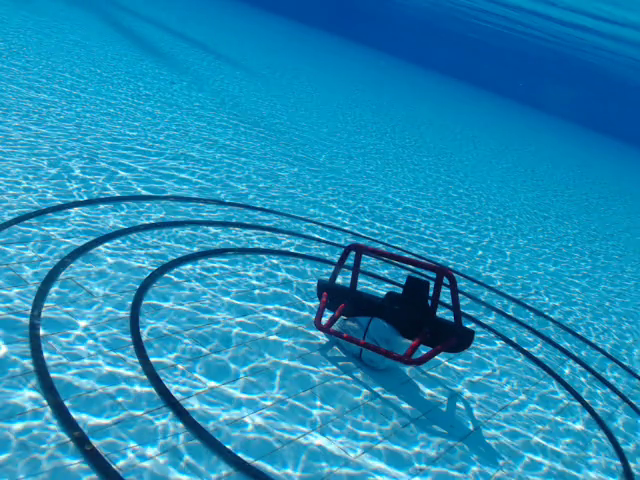submarine: (312, 242, 479, 367)
